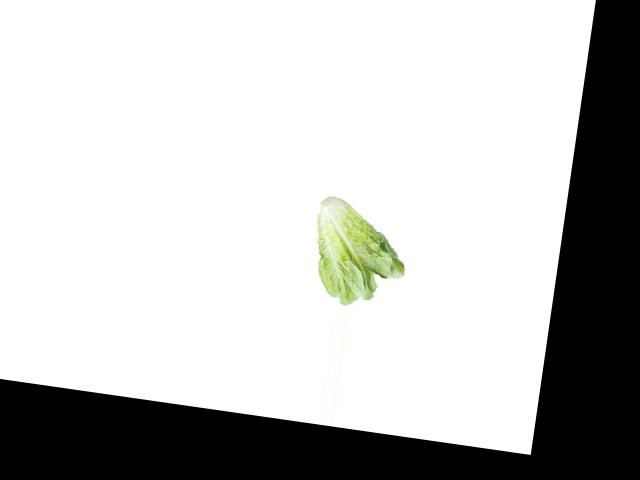lettuce: (302, 194, 417, 315)
